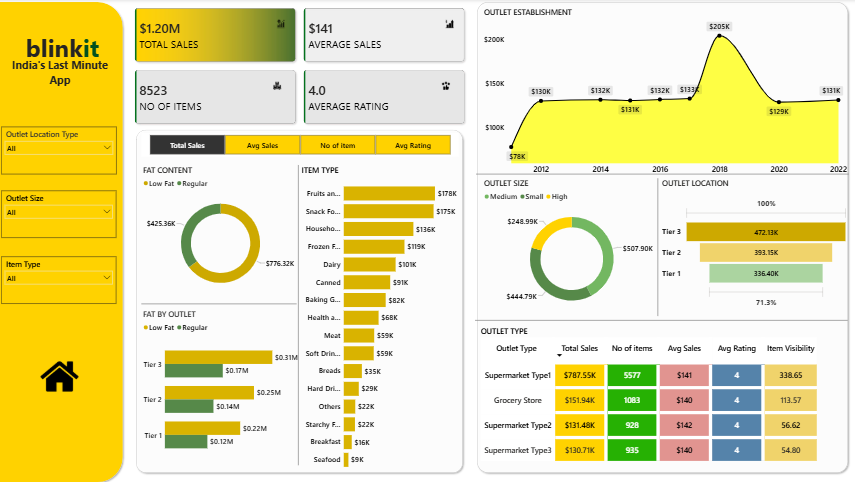

The page's visual inventory and layout, read from the dashboard file:
{"tool":"powerbi","page":{"name":"Page 1","canvas":[2560,1440],"ordinal":0},"visuals":[{"type":"shape","box":[0,0,390.5,1439.8],"z":0},{"type":"cardVisual","fields":{"Data":["BlinkIT Grocery Data.Total Sales","BlinkIT Grocery Data.Average Sales","BlinkIT Grocery Data.No of item sold","BlinkIT Grocery Data.Average Rating"]},"box":[390.5,0,1031,396.6],"z":1000},{"type":"shape","box":[411.8,378.3,985.3,1034.1],"z":2000},{"type":"shape","box":[1421.5,0,1116.5,1412.4],"z":3000},{"type":"lineChart","title":"OUTLET ESTABLISHMENT ","fields":{"Category":["BlinkIT Grocery Data.Outlet Establishment Year"],"Y":["BlinkIT Grocery Data.Total Sales"]},"box":[1445.9,24.4,1086,506.4],"z":4000},{"type":"slicer","fields":{"Values":["metrices 1.metrices 1"]},"box":[436.2,396.6,939.5,70.2],"z":5000},{"type":"donutChart","title":"FAT CONTENT","fields":{"Y":["BlinkIT Grocery Data.Total Sales"],"Category":["BlinkIT Grocery Data.Item Fat Content"]},"box":[436.2,491.1,469.8,396.6],"z":6000},{"type":"clusteredBarChart","title":"FAT BY OUTLET","fields":{"Y":["BlinkIT Grocery Data.Total Sales"],"Category":["BlinkIT Grocery Data.Outlet Location Type"],"Series":["BlinkIT Grocery Data.Item Fat Content"]},"box":[436.2,918.2,469.8,463.7],"z":7000},{"type":"shape","box":[436.2,887.7,460.6,30.5],"z":8000},{"type":"shape","box":[896.8,491.1,9.2,890.7],"z":9000},{"type":"barChart","title":"ITEM TYPE","fields":{"Y":["BlinkIT Grocery Data.Total Sales"],"Category":["BlinkIT Grocery Data.Item Type"]},"box":[906,491.1,469.8,921.2],"z":10000},{"type":"donutChart","title":"OUTLET SIZE","fields":{"Category":["BlinkIT Grocery Data.Outlet Size"],"Y":["BlinkIT Grocery Data.Total Sales"]},"box":[1445.9,530.8,530.8,408.8],"z":11000},{"type":"funnel","title":"OUTLET LOCATION","fields":{"Category":["BlinkIT Grocery Data.Outlet Location Type"],"Y":["Sum(BlinkIT Grocery Data.Sales)"]},"box":[1973.6,530.8,558.2,408.8],"z":12000},{"type":"shape","box":[1958.4,530.8,15.3,408.8],"z":13000},{"type":"shape","box":[1424.6,939.5,1104.3,24.4],"z":14000},{"type":"shape","box":[1427.6,506.4,1104.3,24.4],"z":15000},{"type":"pivotTable","title":"OUTLET TYPE","fields":{"Rows":["BlinkIT Grocery Data.Outlet Type"],"Values":["BlinkIT Grocery Data.Total Sales","BlinkIT Grocery Data.No of item sold","BlinkIT Grocery Data.Average Sales","BlinkIT Grocery Data.Average Rating","Sum(BlinkIT Grocery Data.Item Visibility)"]},"box":[1436.8,967,1086,414.9],"z":16000},{"type":"textbox","box":[21.4,167.8,347.8,112.9],"z":17000},{"type":"textbox","box":[42.7,88.5,320.3,106.8],"z":18000},{"type":"slicer","fields":{"Values":["BlinkIT Grocery Data.Outlet Location Type"]},"box":[21.4,378.3,341.6,140.3],"z":19000},{"type":"slicer","fields":{"Values":["BlinkIT Grocery Data.Outlet Size"]},"box":[21.4,567.4,341,140],"z":20000},{"type":"slicer","fields":{"Values":["BlinkIT Grocery Data.Item Type"]},"box":[21.4,762.6,341,140],"z":21000},{"type":"image","box":[125.1,1061.6,137.3,112.9],"z":22000}]}

Visuals, with their boxes in screenshot pixels (x1, y1, x2, y2), scaled from the page's 2560x1440 canvas onto the 855x482 screenshot:
shape: BBox(0, 0, 130, 481)
cardVisual - BlinkIT Grocery Data.Total Sales x BlinkIT Grocery Data.Average Sales: BBox(130, 0, 475, 133)
shape: BBox(138, 127, 467, 473)
shape: BBox(475, 0, 848, 473)
"OUTLET ESTABLISHMENT " lineChart: BBox(483, 8, 846, 178)
slicer - metrices 1.metrices 1: BBox(146, 133, 459, 156)
"FAT CONTENT" donutChart: BBox(146, 164, 303, 297)
"FAT BY OUTLET" clusteredBarChart: BBox(146, 307, 303, 463)
shape: BBox(146, 297, 300, 307)
shape: BBox(300, 164, 303, 463)
"ITEM TYPE" barChart: BBox(303, 164, 459, 473)
"OUTLET SIZE" donutChart: BBox(483, 178, 660, 315)
"OUTLET LOCATION" funnel: BBox(659, 178, 846, 315)
shape: BBox(654, 178, 659, 315)
shape: BBox(476, 314, 845, 323)
shape: BBox(477, 170, 846, 178)
"OUTLET TYPE" pivotTable: BBox(480, 324, 843, 463)
textbox: BBox(7, 56, 123, 94)
textbox: BBox(14, 30, 121, 65)
slicer - BlinkIT Grocery Data.Outlet Location Type: BBox(7, 127, 121, 174)
slicer - BlinkIT Grocery Data.Outlet Size: BBox(7, 190, 121, 237)
slicer - BlinkIT Grocery Data.Item Type: BBox(7, 255, 121, 302)
image: BBox(42, 355, 88, 393)
